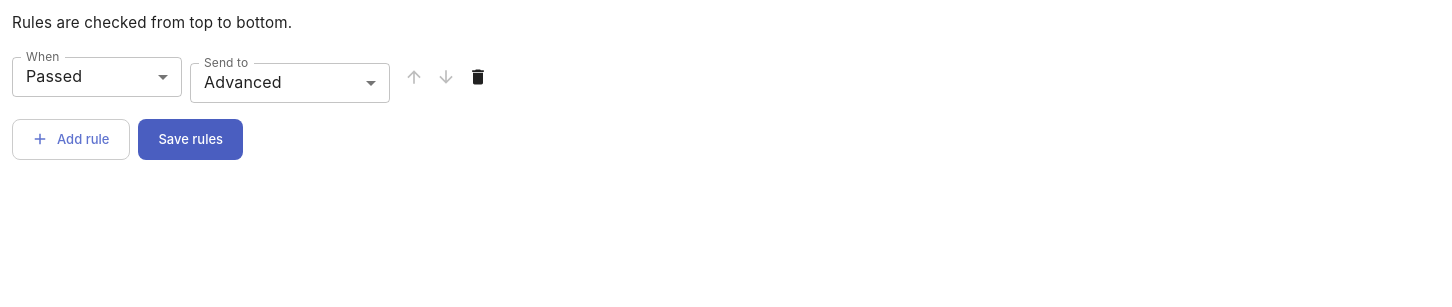
Test: QuizBranching › saves the whole rule set in the order shown
Step 1. Click the button "Add rule" → (71, 139), box [12,119,130,160]
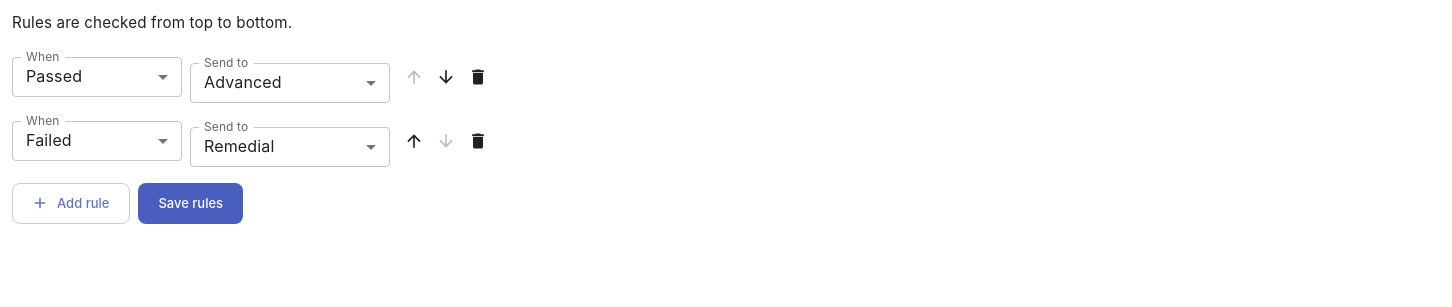
Step 2. Click the button "Save rules" → (191, 203), box [138,183,243,224]
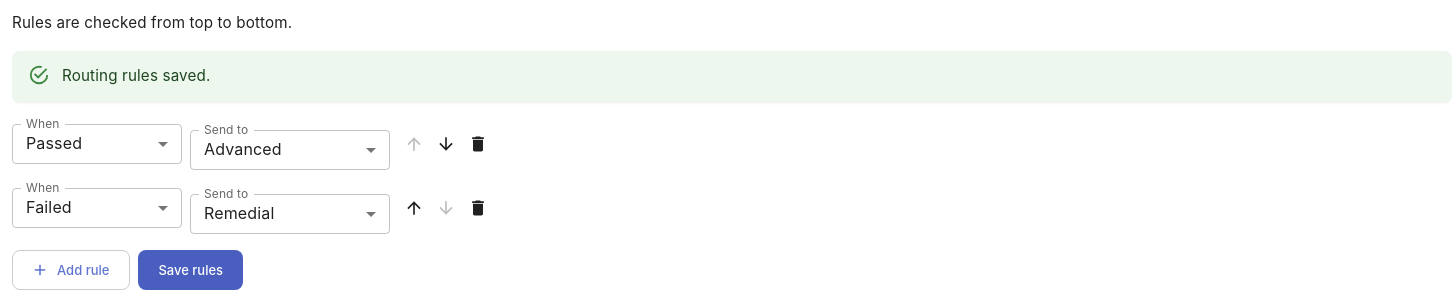
Now the text "Routing rules saved." is shown, box [62,66,210,85]
